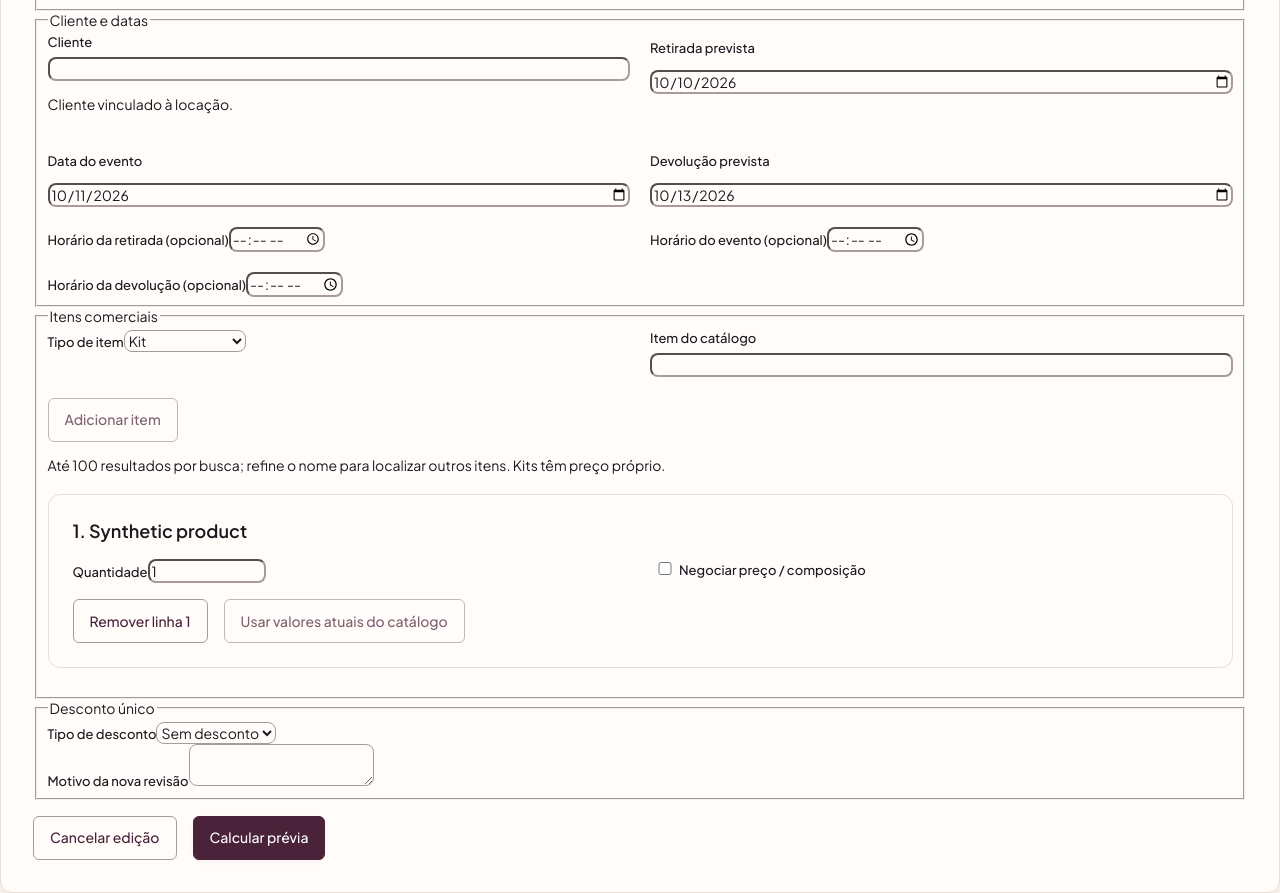
Test: reads quotation and money but no rental when resuming without a rental ID
(page scrolled)
In the text box labelled "Motivo da nova revisão": point(281, 765) [188,744,374,786], type "Synthetic retained reason"
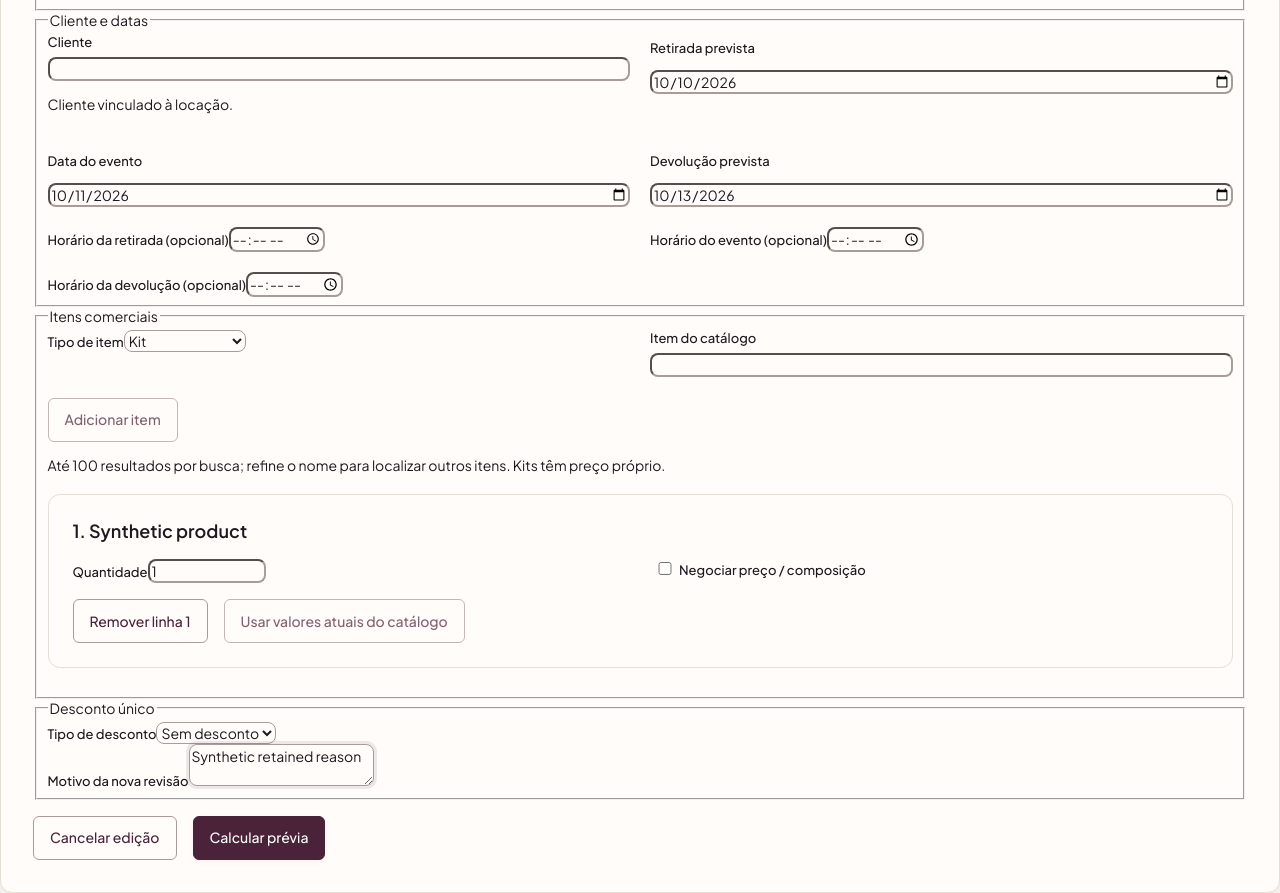
Replace the text in the number field labelled "Quantidade" with "2": point(207, 571) [148,559,266,583]
(page scrolled)
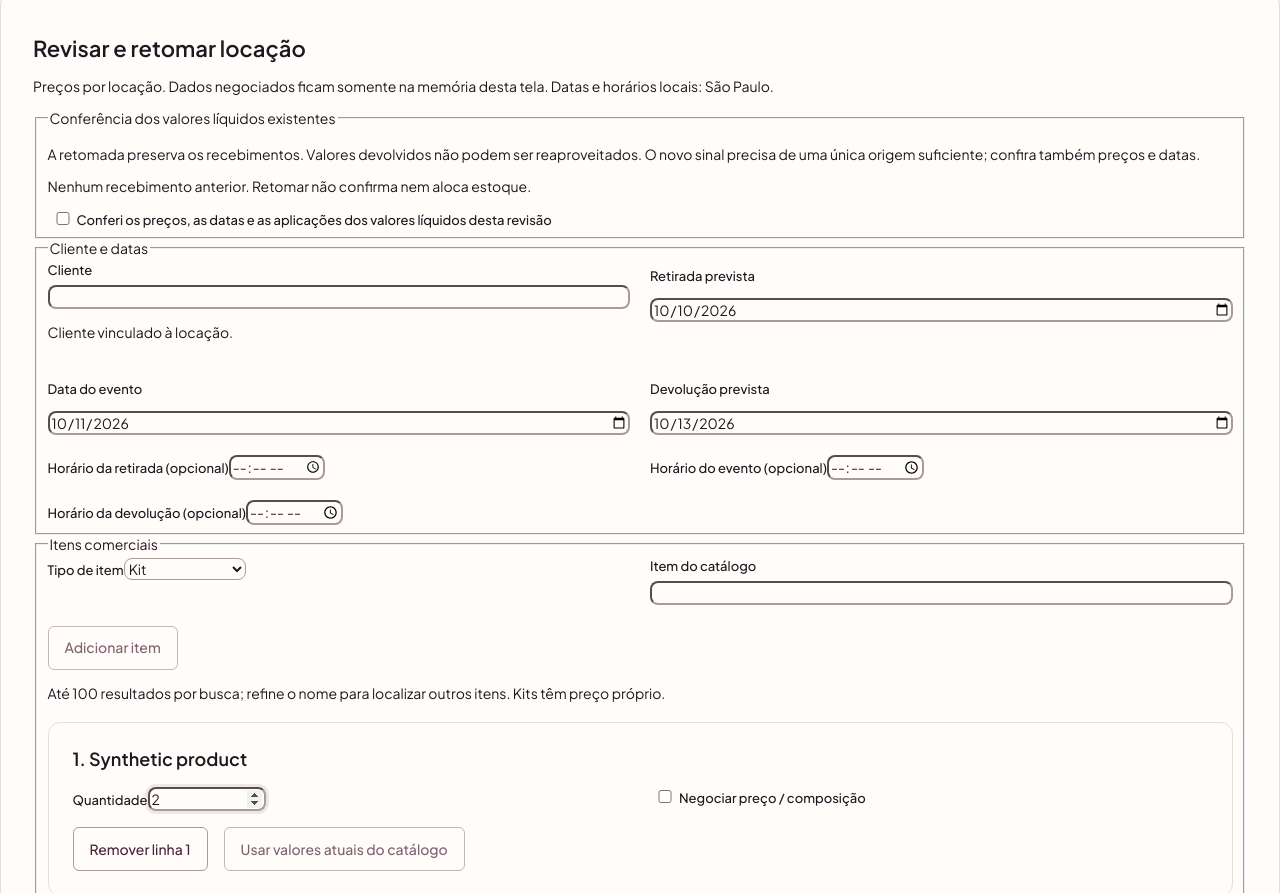
Click the checkbox labelled "Conferi os preços": point(62, 219) [52,212,74,226]
(page scrolled)
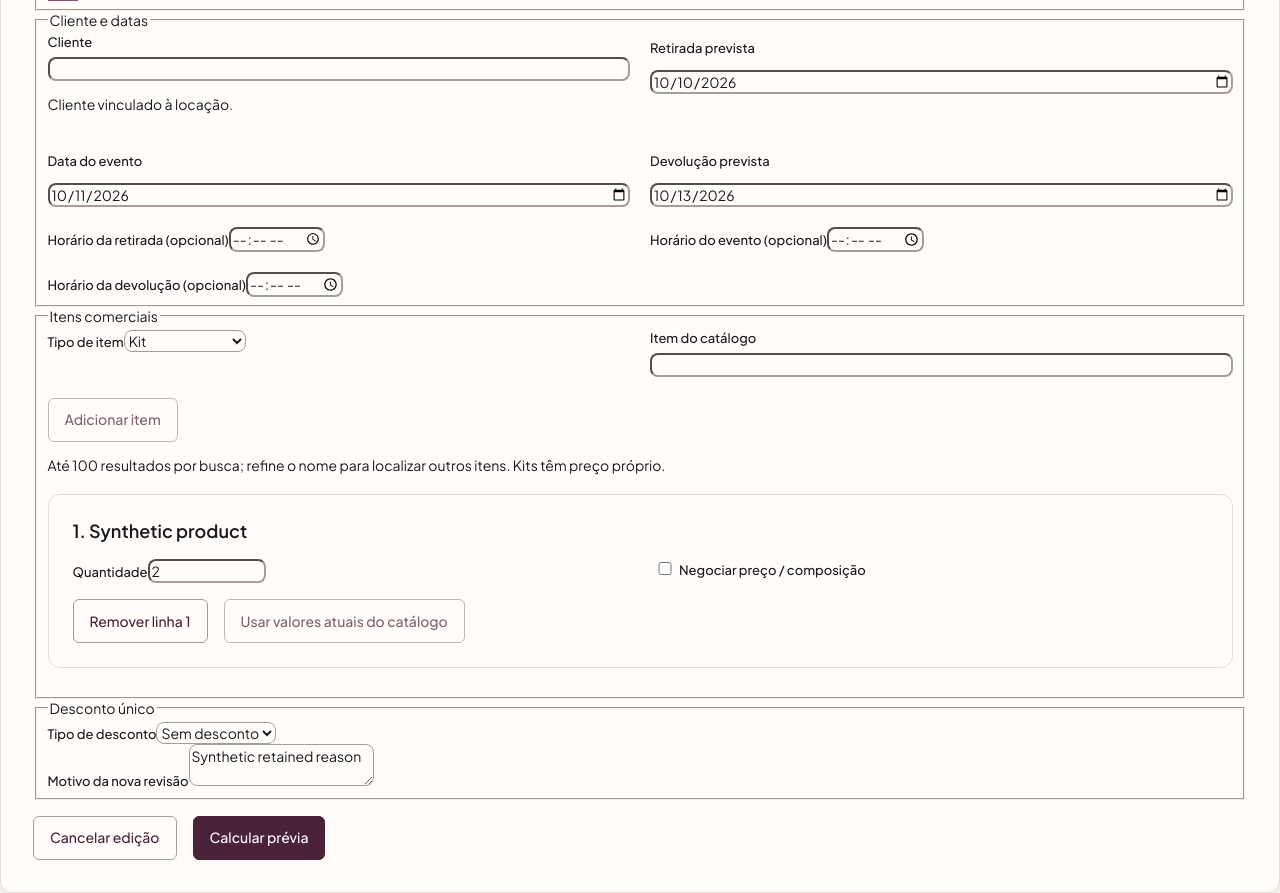
Click the button "Calcular prévia": point(259, 838) [192,816,326,860]
(page scrolled)
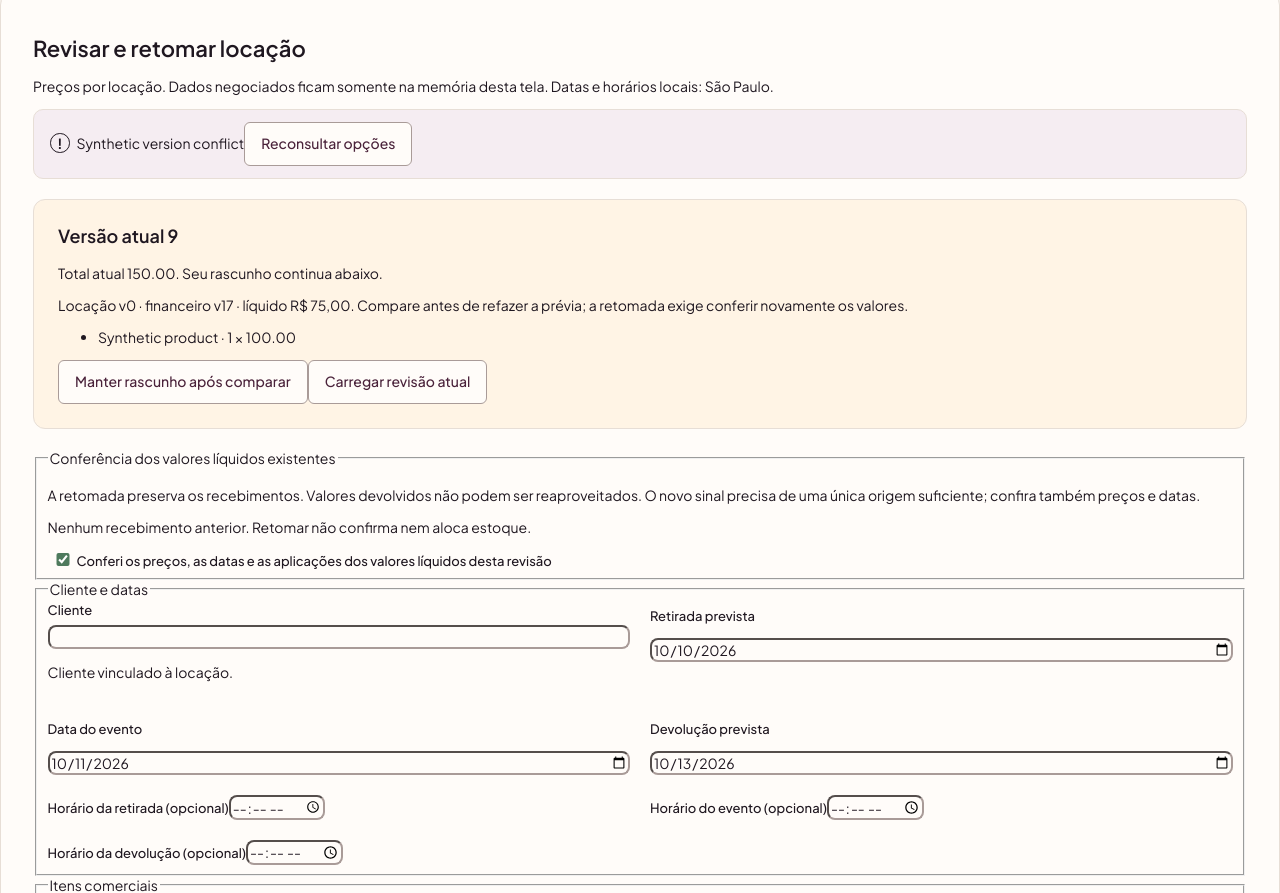
Expected: the element named "Comparação de conflito" shows "Locação v0 · financeiro v17", [33,199,1247,429]
